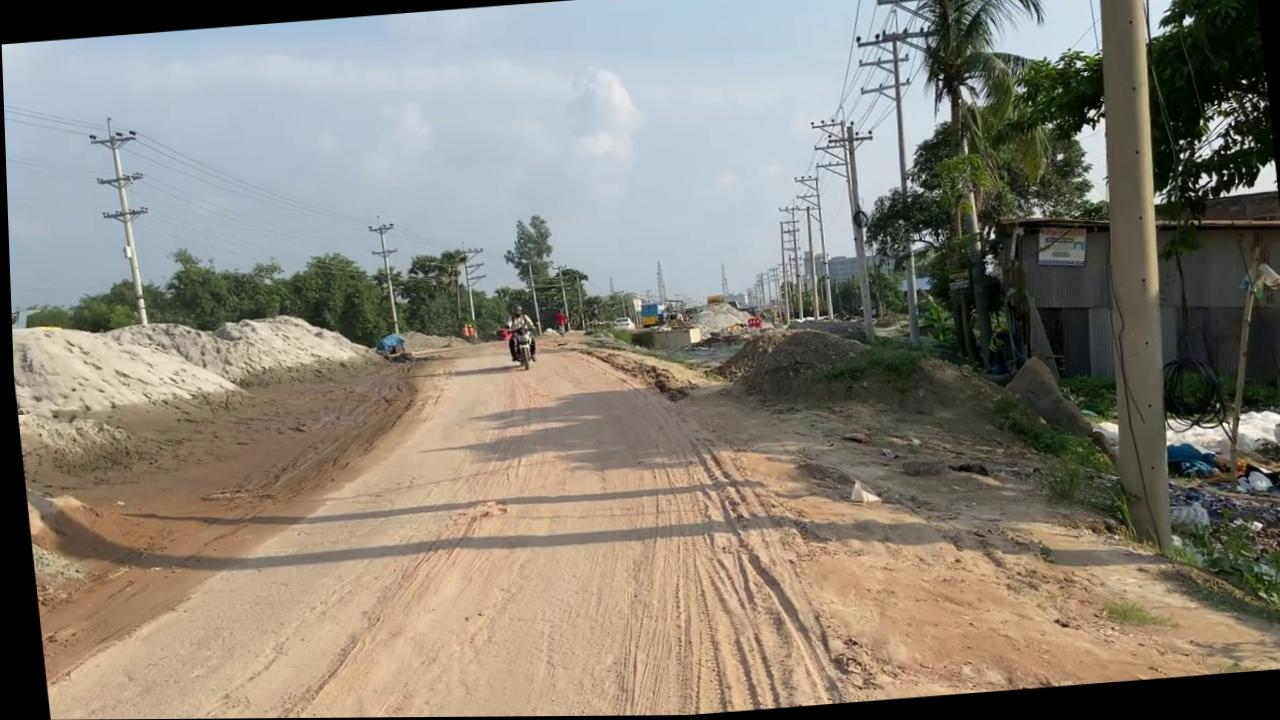Car: (608, 316, 632, 333)
Garbage: (9, 306, 378, 477), (1162, 408, 1280, 601)
Motorcycle: (500, 324, 535, 371)
Obstacle: (626, 322, 699, 354)
Pole: (1062, 0, 1203, 560), (85, 114, 157, 327)
Rickshaw: (590, 297, 1167, 717)
Traffic-sign: (867, 0, 1082, 378), (496, 212, 559, 337)
Tree: (626, 258, 687, 332), (630, 296, 687, 332), (657, 299, 686, 330)
Upstairs: (989, 197, 1280, 410)
